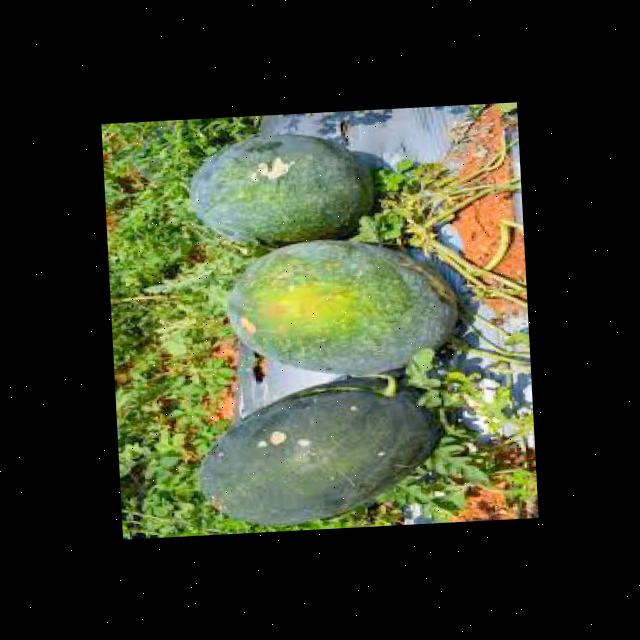watermelon: (194, 375, 452, 529), (222, 231, 462, 384), (185, 128, 378, 254)
